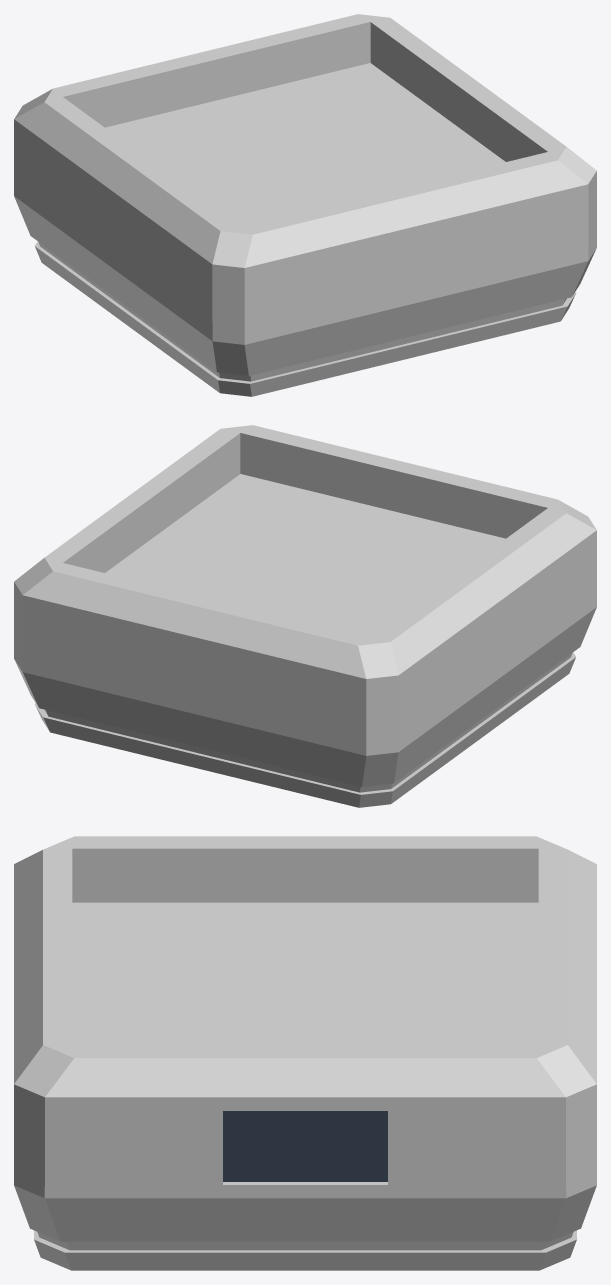
The model's file is SM_planter_1x1.fbx.
The picture shows the model from 3 angles, top to bottom: view 1: azimuth 30°, elevation 25°; view 2: azimuth 150°, elevation 25°; view 3: azimuth 270°, elevation 25°; orthographic projection. The views are drawn at different scales.
Visible parts, largest first — view 1: Planter 1x1; view 2: Planter 1x1; view 3: Planter 1x1.
Boxes of the visible parts, box(x1,y1,x2,y2) form: Planter 1x1: box(14, 14, 596, 396); Planter 1x1: box(14, 425, 596, 807); Planter 1x1: box(14, 836, 596, 1270).
Bounding box in the file's own units: 100 × 40 × 100.
